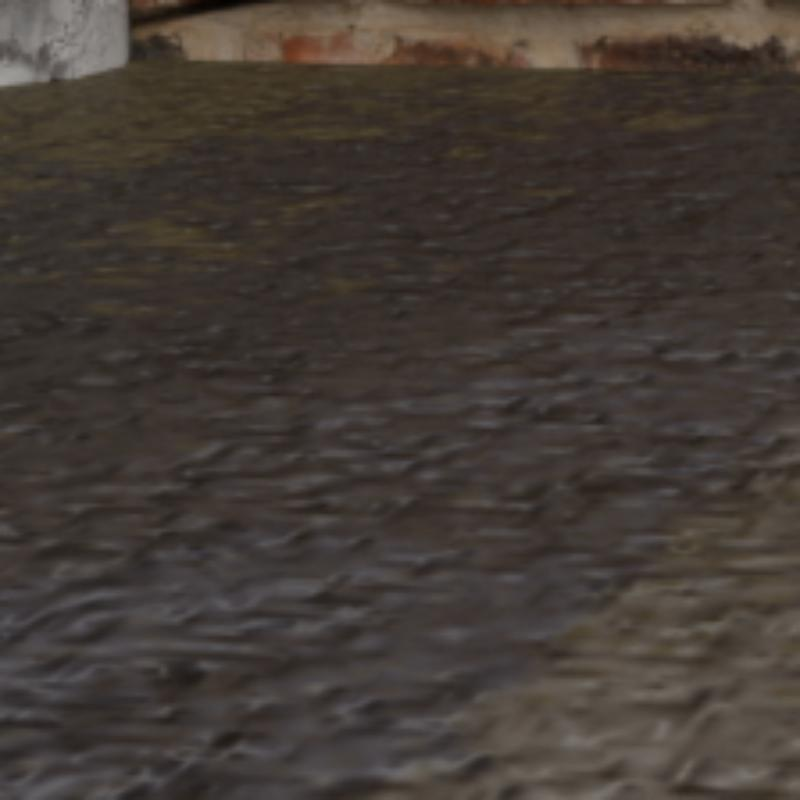crack: (132, 0, 271, 29)
